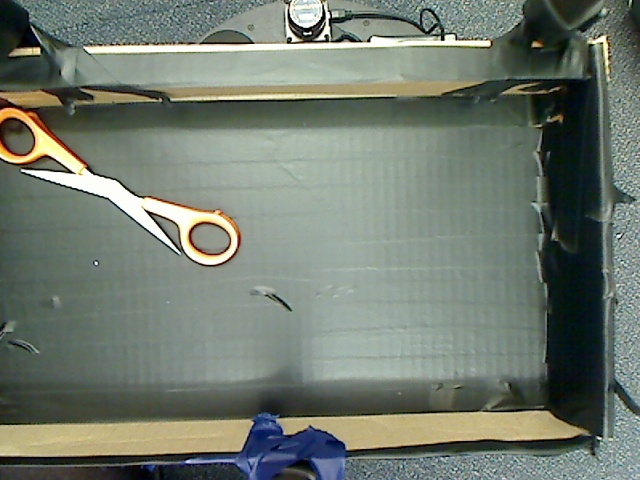scissors: (1, 98, 249, 280)
